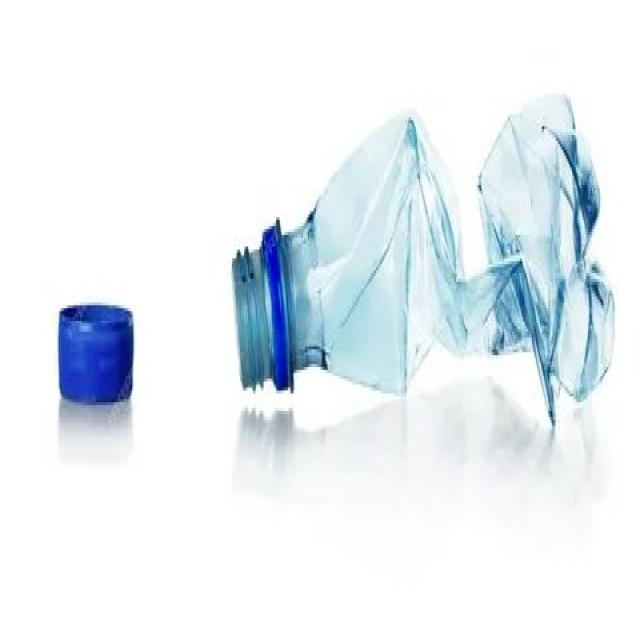blue: (229, 86, 617, 435)
